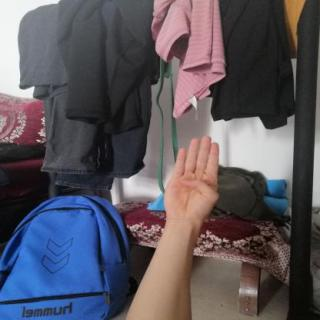KAAF: (154, 130, 228, 227)
